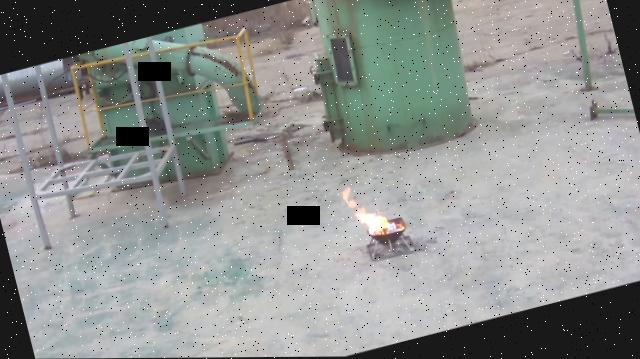fire: (338, 179, 392, 243), (394, 223, 402, 231)
